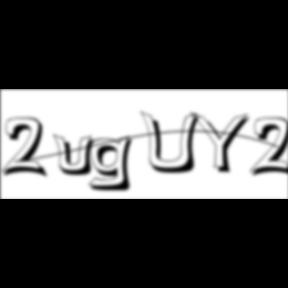2: (2, 117, 52, 181)
U: (140, 110, 206, 176)
Y: (190, 110, 256, 176)
g: (88, 134, 140, 194)
u: (53, 132, 101, 178)
